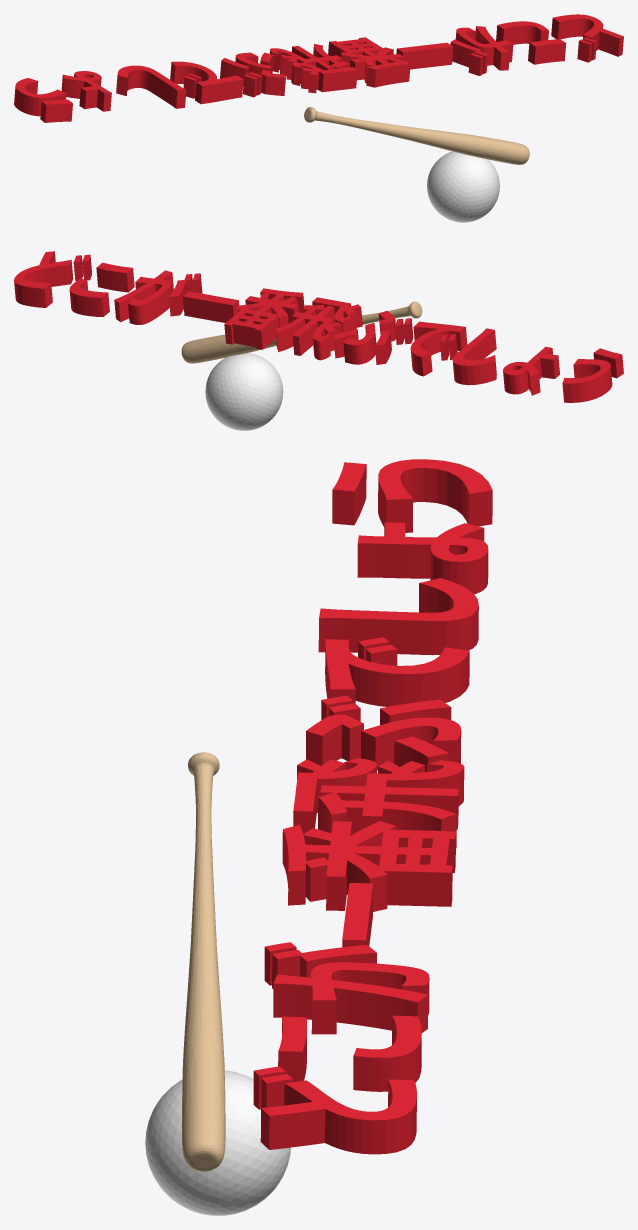
File: tinker.obj
3 renders of one model, top to bottom at view 1: azimuth 30°, elevation 25°; view 2: azimuth 150°, elevation 25°; view 3: azimuth 270°, elevation 25°, orthographic. The views are drawn at different scales.
Visible parts, largest first — view 1: group_0_15277357, group_0_16448250, group_0_14860437; view 2: group_0_15277357, group_0_16448250, group_0_14860437; view 3: group_0_15277357, group_0_14860437, group_0_16448250.
Part boxes in pixels (x1,y1,x2,y2): group_0_15277357: [14, 14, 623, 122]; group_0_16448250: [427, 151, 499, 222]; group_0_14860437: [304, 107, 529, 164]; group_0_15277357: [14, 251, 623, 402]; group_0_16448250: [205, 353, 283, 430]; group_0_14860437: [181, 301, 422, 363]; group_0_15277357: [253, 459, 492, 1154]; group_0_14860437: [181, 752, 225, 1171]; group_0_16448250: [145, 1070, 290, 1215].
Bounding box in the file's own units: 179 × 56 × 47.56.
